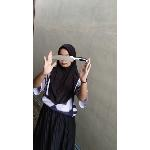Pisau: (49, 50, 91, 68)
